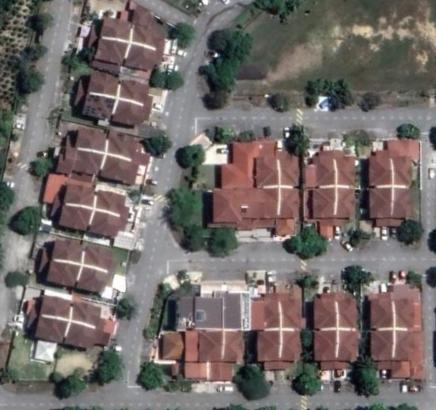building: (199, 137, 304, 240), (70, 7, 189, 83), (34, 175, 149, 249), (22, 231, 135, 306), (8, 287, 124, 359), (57, 67, 168, 139), (364, 275, 427, 385), (53, 125, 153, 193), (359, 138, 423, 235), (304, 277, 362, 384), (249, 273, 307, 380), (303, 141, 360, 243)
